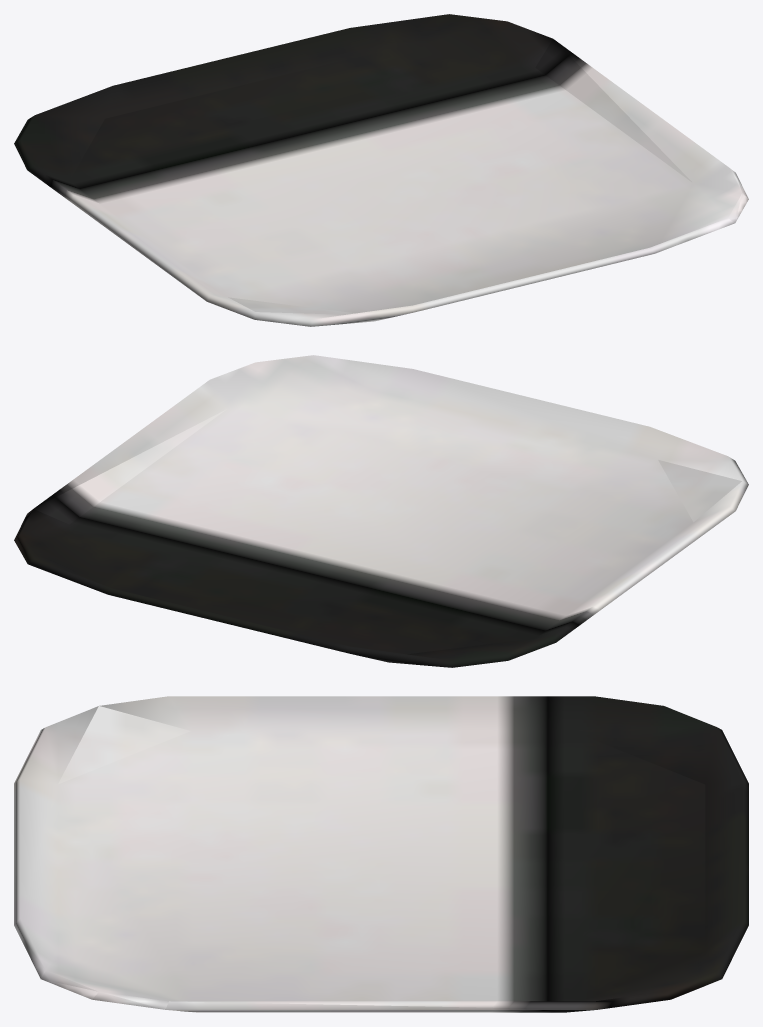
File: Plate_Ceramic01.FBX
3 views of the same model, one above another, from view 1: azimuth 30°, elevation 25°; view 2: azimuth 150°, elevation 25°; view 3: azimuth 270°, elevation 25° (orthographic). The views are drawn at different scales.
Parts seen in each view (by area): view 1: Plate_Ceramic01; view 2: Plate_Ceramic01; view 3: Plate_Ceramic01.
Boxes of the visible parts, x1,y1,x2,y2 form: Plate_Ceramic01: (14,14,748,326); Plate_Ceramic01: (14,355,748,667); Plate_Ceramic01: (14,696,748,1012).
Size of the model in its own units: 0.2996 by 0.015 by 0.2996.
